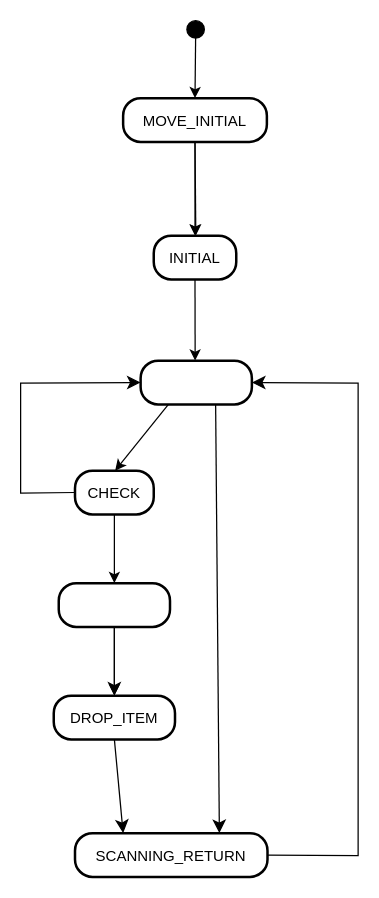
This 379x898 diagram has some shape labels left out. Each missing label, with the centre of its shape:
"GRABBING" belongs at (114,604).
"SCANNING" belongs at (195,382).
